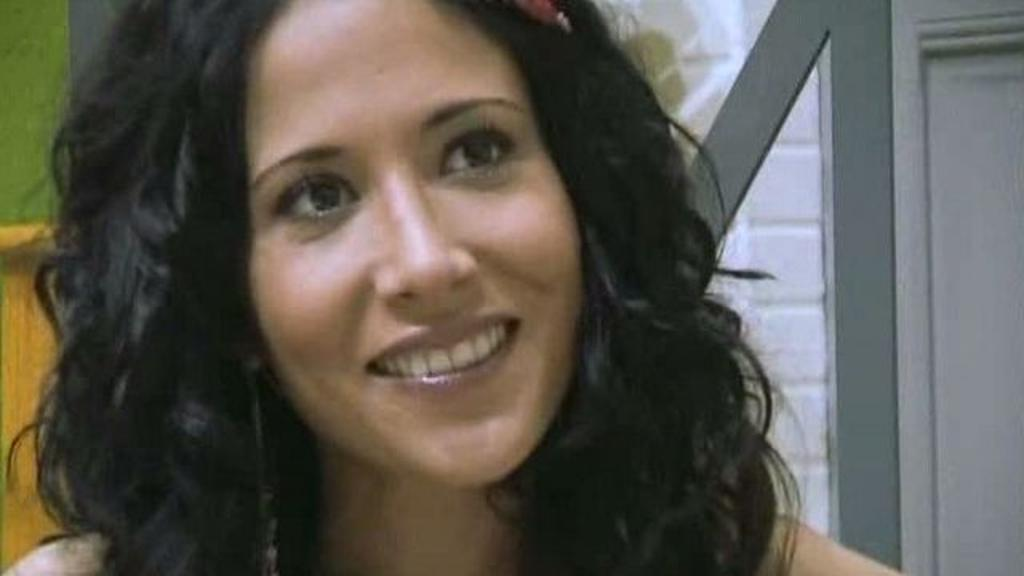face: (262, 22, 570, 480)
